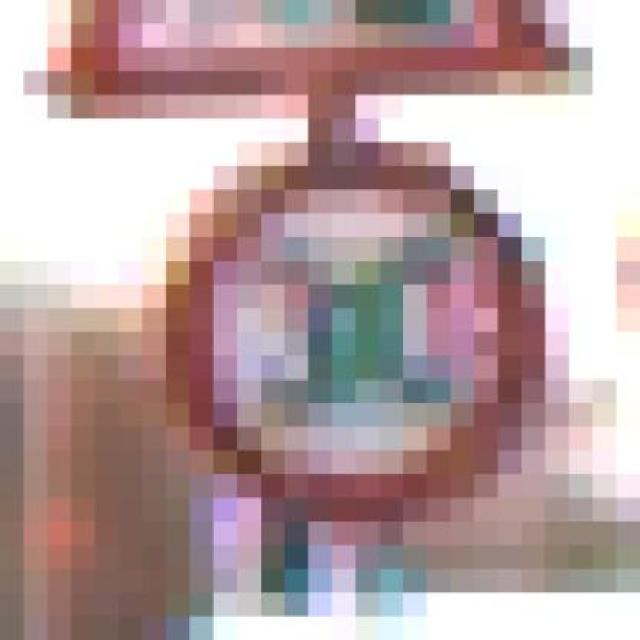Speed Limit 30 KMPh: (95, 118, 616, 545)
